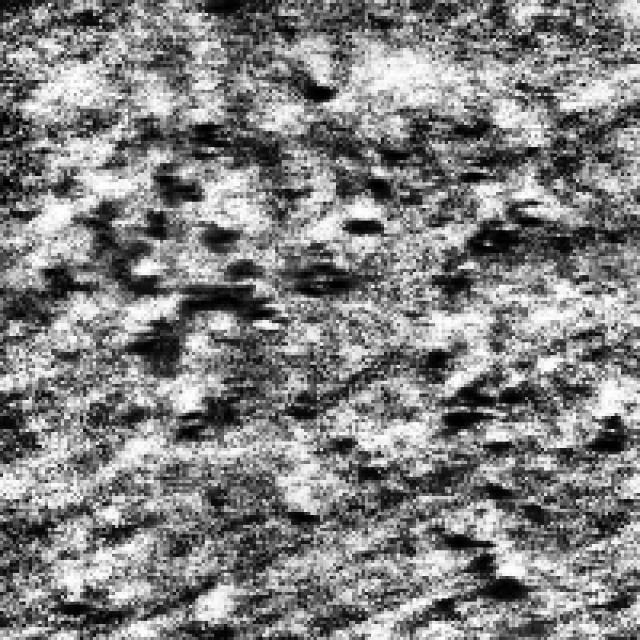Crazing: (26, 86, 384, 349), (426, 147, 612, 598)
